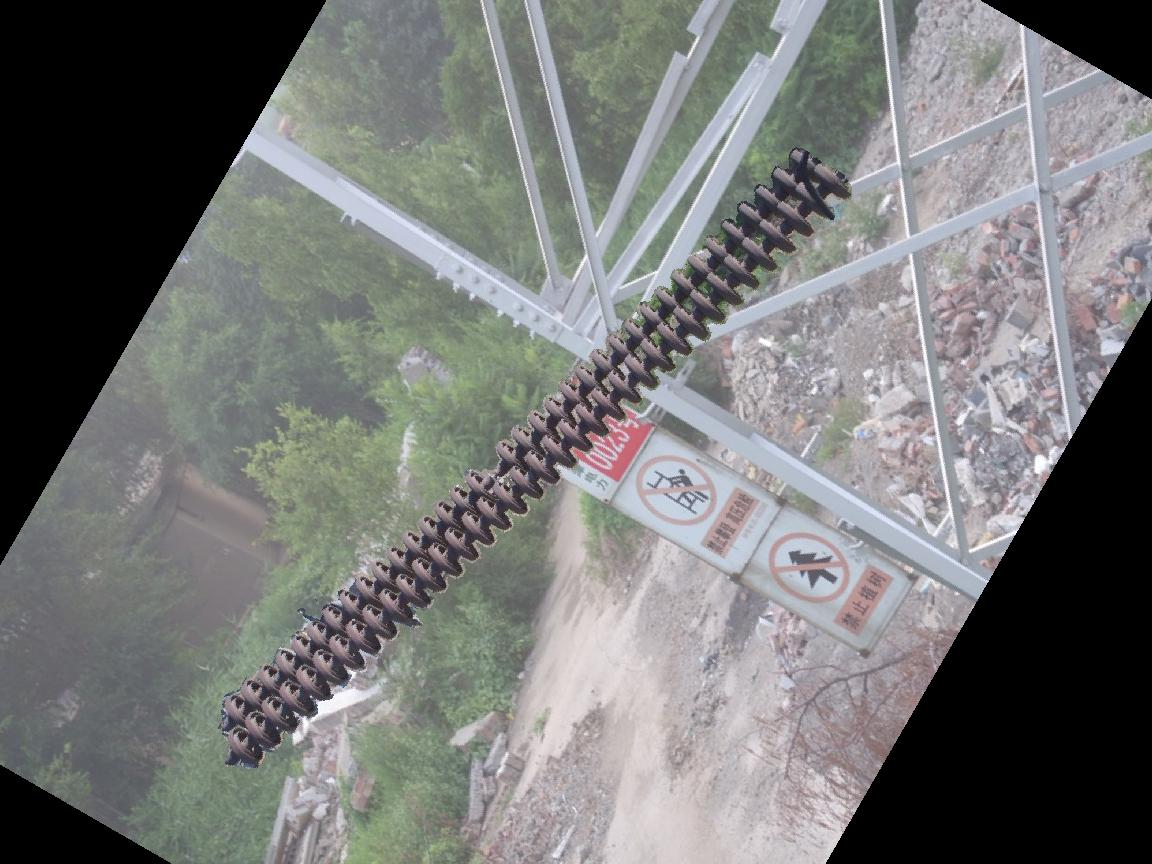insulator: (210, 140, 859, 773)
insulator_stringdrop: (459, 434, 523, 494)
